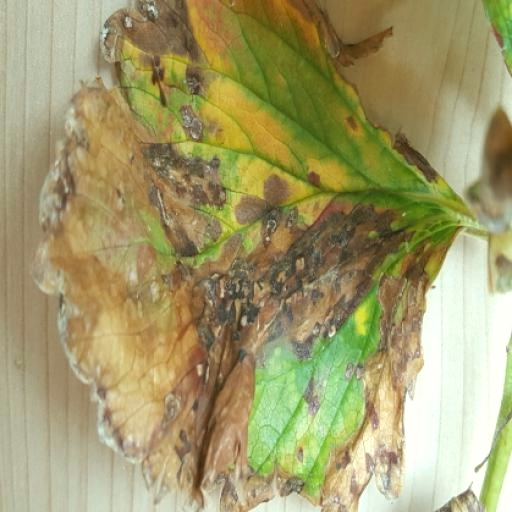Angular Leafspot: (40, 0, 482, 511)
